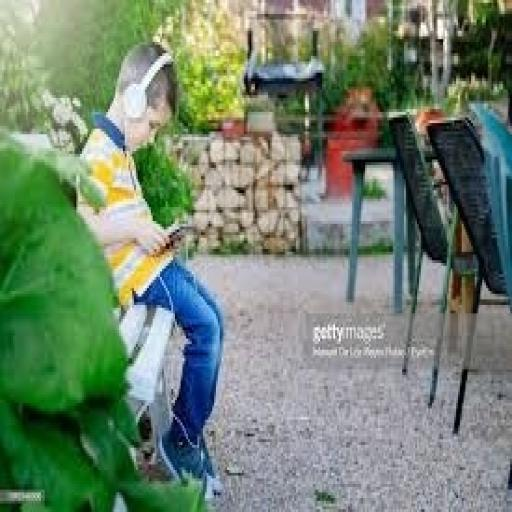listening_to_music: (75, 39, 227, 504)
